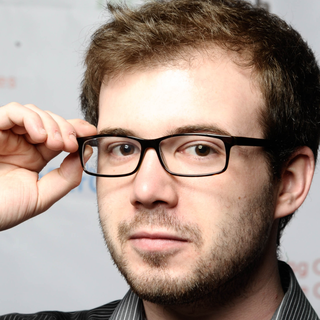eye: (100, 139, 142, 165), (172, 140, 220, 162)
